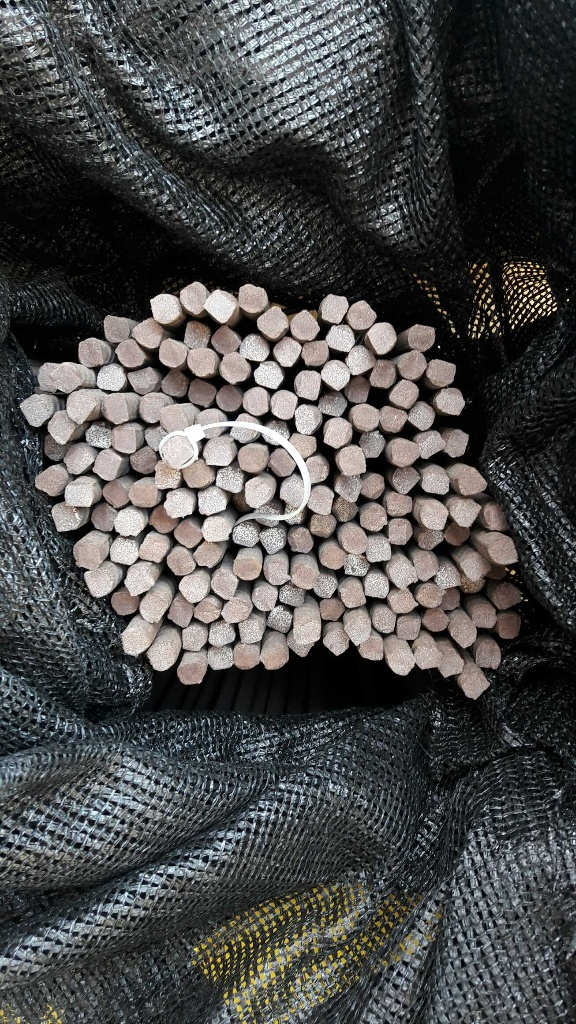dipstick: (450, 498, 481, 530), (255, 307, 288, 337), (456, 467, 489, 497), (19, 395, 51, 425), (160, 438, 193, 467), (412, 431, 445, 460), (367, 321, 397, 352), (35, 466, 66, 496), (132, 317, 161, 349), (204, 290, 233, 322), (387, 556, 416, 588), (46, 412, 74, 445), (268, 390, 297, 421), (184, 459, 215, 488), (338, 578, 367, 609), (434, 388, 466, 416), (487, 536, 520, 563), (237, 283, 267, 312), (51, 362, 80, 392), (396, 351, 426, 380), (238, 443, 267, 473), (113, 509, 143, 538), (219, 353, 247, 384), (294, 404, 322, 435), (483, 502, 511, 533), (321, 359, 348, 391), (65, 391, 92, 423), (243, 385, 270, 417), (181, 281, 206, 315), (101, 394, 130, 423), (196, 408, 225, 437), (231, 413, 260, 442), (164, 489, 193, 518), (337, 447, 366, 476), (379, 404, 408, 433), (421, 467, 450, 496), (150, 294, 180, 322), (212, 324, 240, 354), (292, 310, 320, 340), (426, 359, 456, 387), (293, 370, 320, 401), (203, 439, 234, 466), (388, 381, 419, 408), (325, 416, 351, 448), (385, 643, 411, 675), (102, 314, 130, 343), (253, 360, 282, 388), (408, 323, 437, 351), (52, 502, 80, 531), (72, 541, 101, 569), (361, 504, 390, 532), (321, 293, 348, 323), (244, 478, 271, 508), (408, 400, 435, 430), (63, 483, 95, 508), (295, 610, 320, 642), (445, 429, 470, 461), (241, 333, 269, 361), (351, 404, 379, 432), (187, 349, 216, 376), (274, 337, 301, 366), (138, 395, 165, 424), (93, 451, 120, 480), (154, 461, 181, 490), (139, 535, 168, 562), (371, 359, 397, 389), (128, 368, 159, 393), (82, 570, 113, 595), (346, 613, 371, 644), (78, 337, 105, 365), (326, 325, 354, 352), (347, 346, 374, 374), (112, 426, 139, 454), (109, 538, 137, 565), (168, 547, 195, 575), (340, 526, 367, 554), (420, 501, 447, 529), (158, 338, 184, 367), (129, 481, 158, 507), (270, 448, 296, 477), (287, 630, 313, 659), (493, 582, 522, 608), (127, 449, 157, 474), (412, 551, 437, 581), (390, 441, 421, 465), (350, 300, 377, 327), (216, 385, 243, 412), (150, 506, 177, 533), (252, 584, 279, 611), (189, 379, 215, 407), (318, 391, 346, 417), (66, 445, 92, 473), (101, 480, 129, 506), (280, 478, 308, 504), (264, 557, 290, 585), (451, 620, 477, 648), (158, 408, 187, 433), (90, 503, 115, 532), (178, 577, 207, 602), (211, 572, 236, 601), (232, 556, 261, 581), (324, 627, 349, 656), (83, 425, 113, 449), (98, 364, 125, 390), (262, 419, 289, 445), (233, 645, 260, 671), (359, 432, 385, 459), (391, 467, 418, 493), (115, 341, 143, 366), (162, 370, 187, 398), (119, 629, 147, 654), (260, 646, 288, 671), (438, 650, 463, 678), (462, 673, 490, 698), (185, 320, 209, 349), (476, 641, 500, 670), (461, 554, 491, 577), (194, 541, 220, 567), (292, 563, 318, 589), (387, 519, 413, 545), (417, 583, 443, 609), (414, 645, 440, 671), (303, 341, 330, 366), (215, 467, 242, 492), (175, 520, 200, 547), (261, 527, 286, 554), (124, 569, 151, 594), (149, 643, 174, 670), (266, 608, 291, 635), (342, 553, 369, 578), (336, 475, 361, 502), (385, 492, 413, 516), (389, 589, 418, 612), (291, 433, 317, 458), (110, 592, 136, 617), (140, 595, 165, 621), (360, 636, 385, 662), (334, 497, 359, 523), (368, 537, 393, 563), (470, 604, 496, 629), (142, 425, 169, 449), (198, 490, 225, 514), (169, 599, 193, 626), (397, 614, 421, 641), (289, 527, 314, 552), (203, 517, 229, 541), (361, 474, 385, 500), (364, 574, 388, 600), (497, 614, 521, 640), (346, 376, 369, 403), (279, 583, 306, 606), (307, 514, 335, 536), (234, 523, 259, 547), (194, 600, 219, 624), (320, 546, 344, 571), (310, 487, 333, 513), (183, 625, 206, 651), (235, 620, 261, 643), (423, 608, 449, 631), (440, 586, 462, 613), (37, 362, 56, 393), (319, 598, 343, 622), (304, 458, 329, 481), (313, 574, 336, 599), (208, 623, 234, 645), (445, 522, 471, 544), (221, 601, 249, 621), (254, 505, 278, 528), (208, 647, 232, 670), (459, 574, 486, 594), (436, 564, 459, 587), (44, 436, 66, 460), (374, 609, 396, 633), (282, 503, 305, 525), (418, 529, 444, 548), (178, 663, 203, 682), (233, 492, 251, 514), (488, 563, 507, 582)
